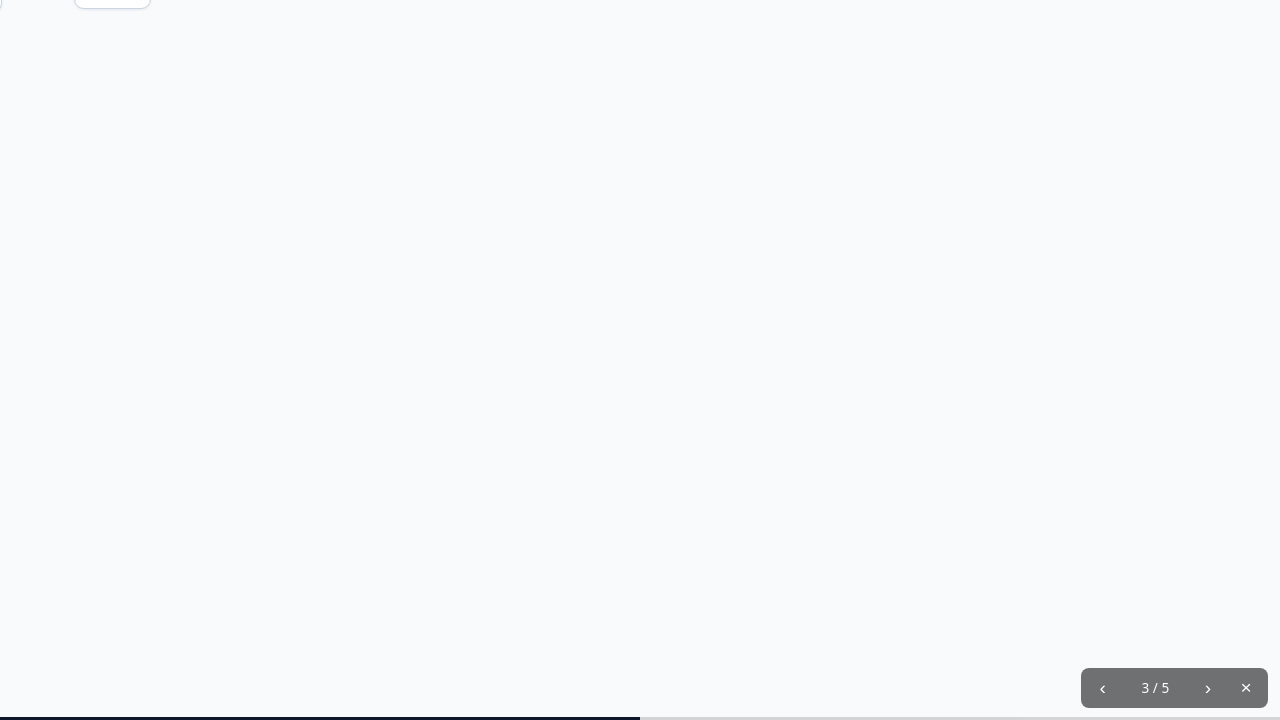
Test: presentation mode (#152) › unfolds a folded branch for the show only, and leaves selection and focus as they were
Press End in the dialog with test id "present-stage"
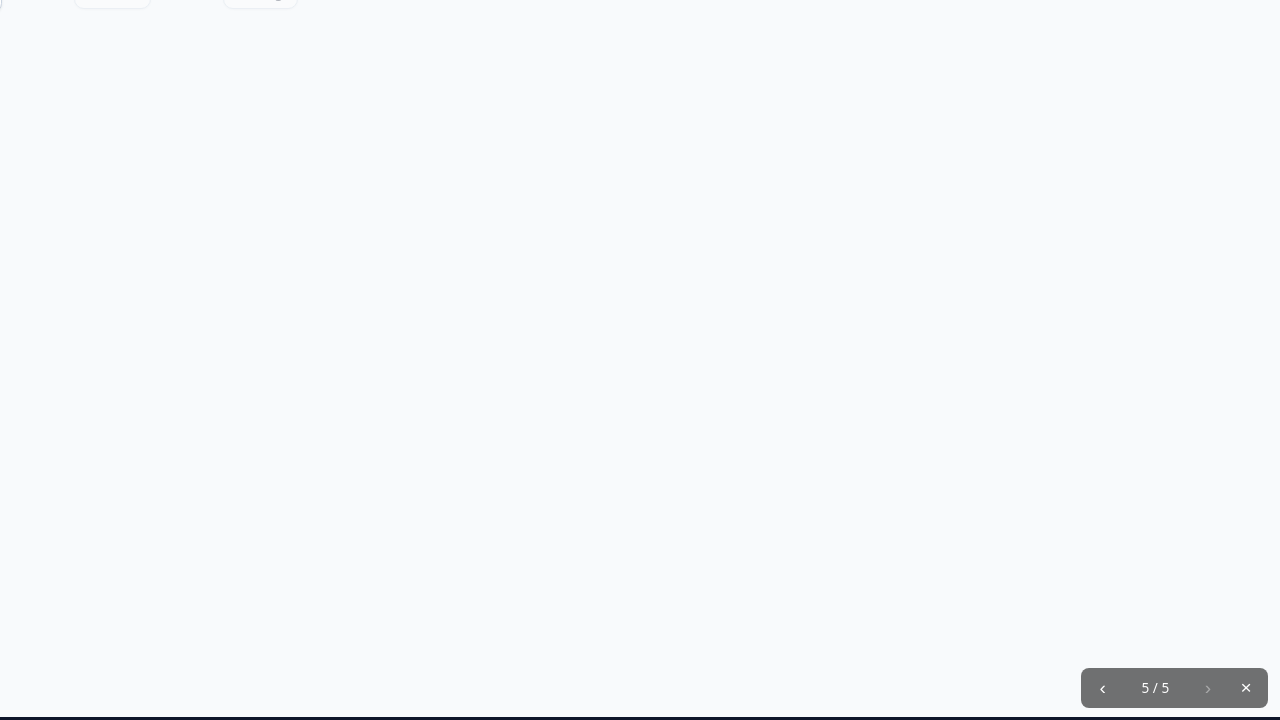
Now the dialog with test id "present-stage" has attribute data-current="b1"
Press Home in the dialog with test id "present-stage"
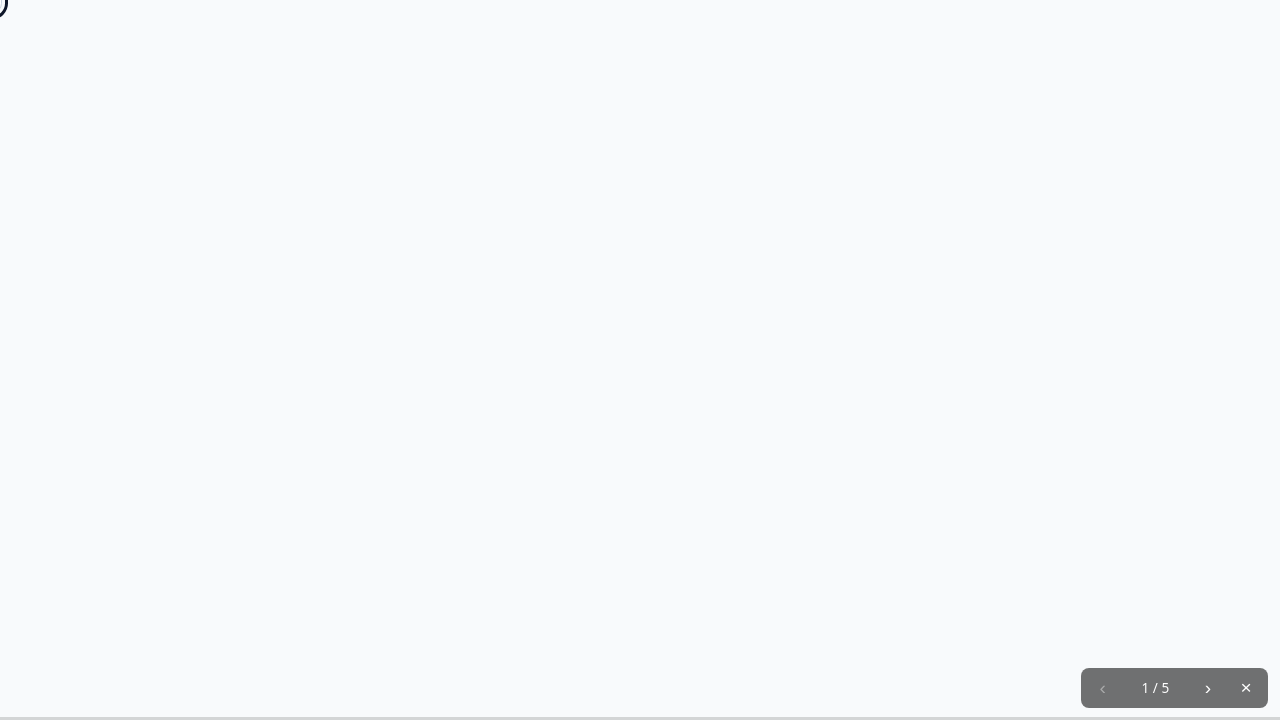
Now the dialog with test id "present-stage" has attribute data-current="r"
Press 3 in the dialog with test id "present-stage"
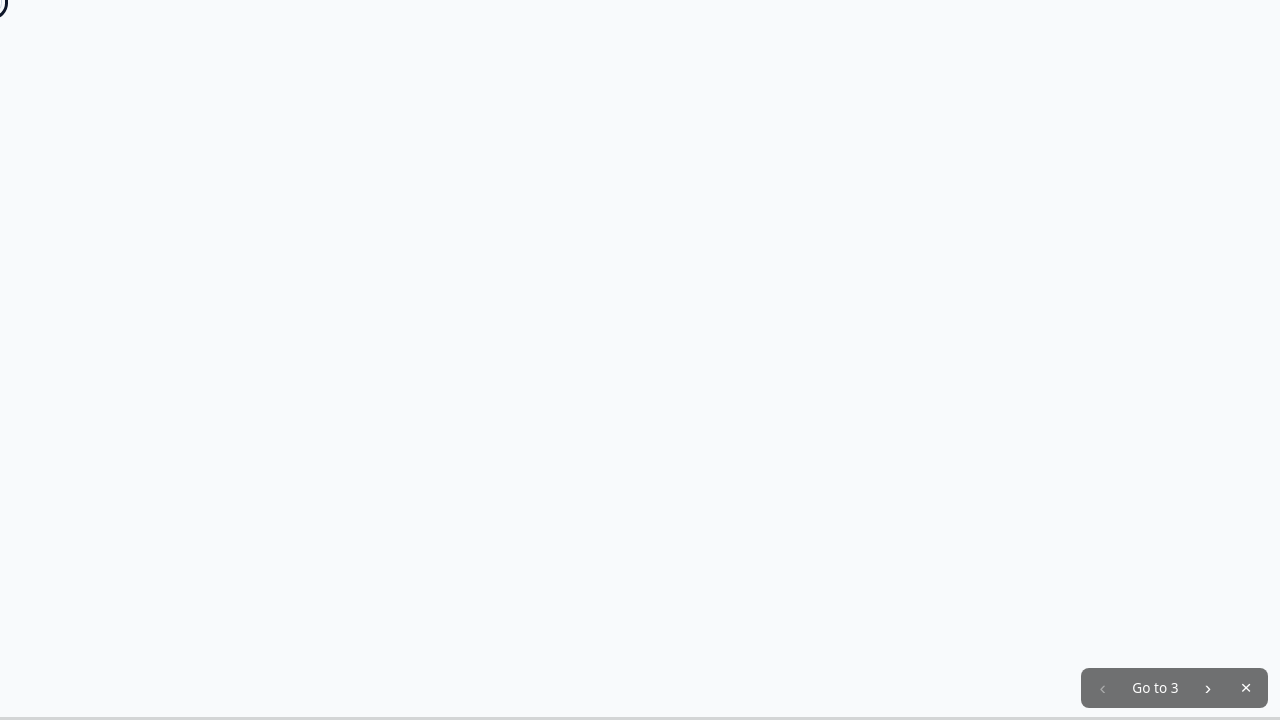
Now the text with test id "present-counter" reads "Go to 3", box [1132,678,1178,697]
Press Enter in the dialog with test id "present-stage"
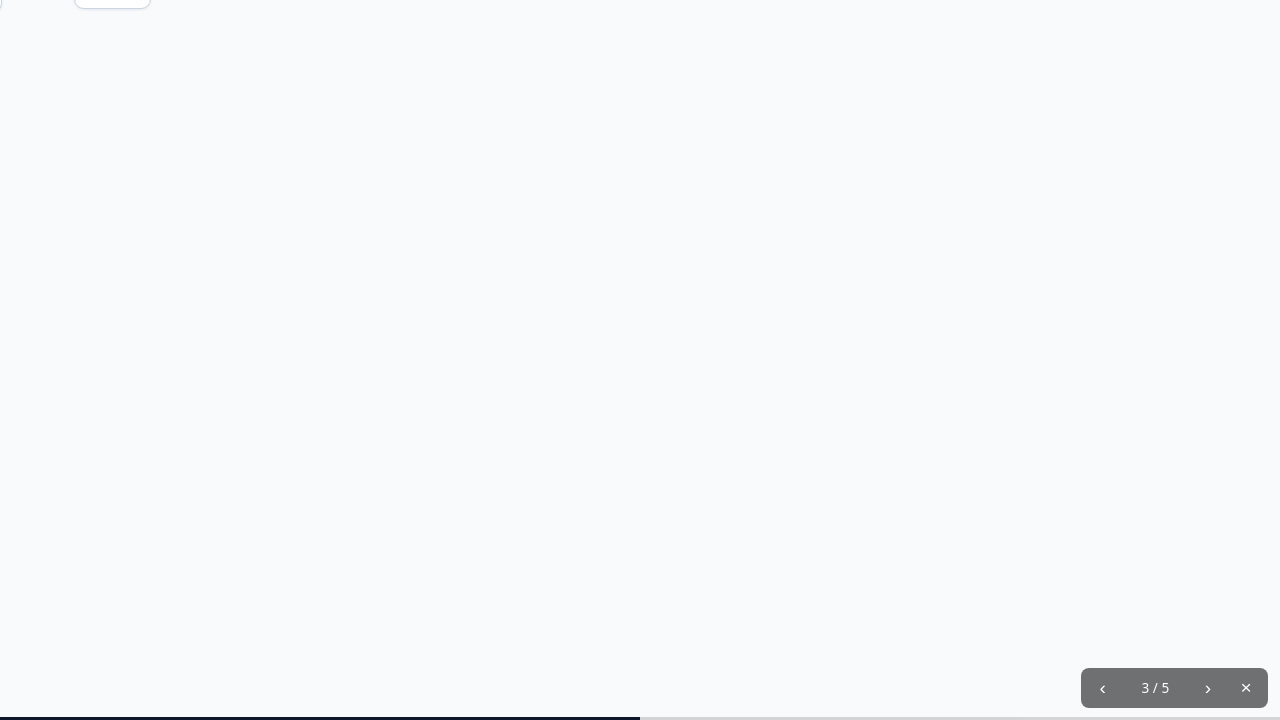
Now the dialog with test id "present-stage" has attribute data-current="b"
Click the button with test id "present-exit" at (1246,688), box [1230,672,1262,704]
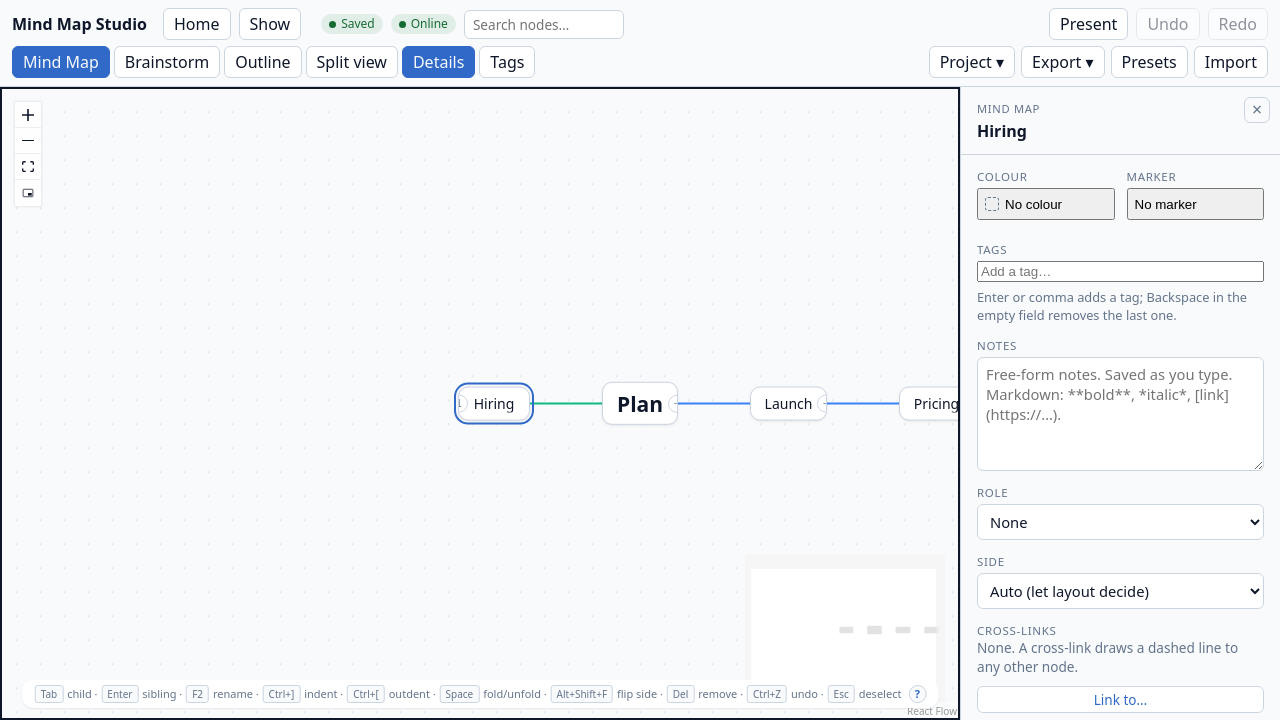
Now the dialog with test id "present-stage" is gone
